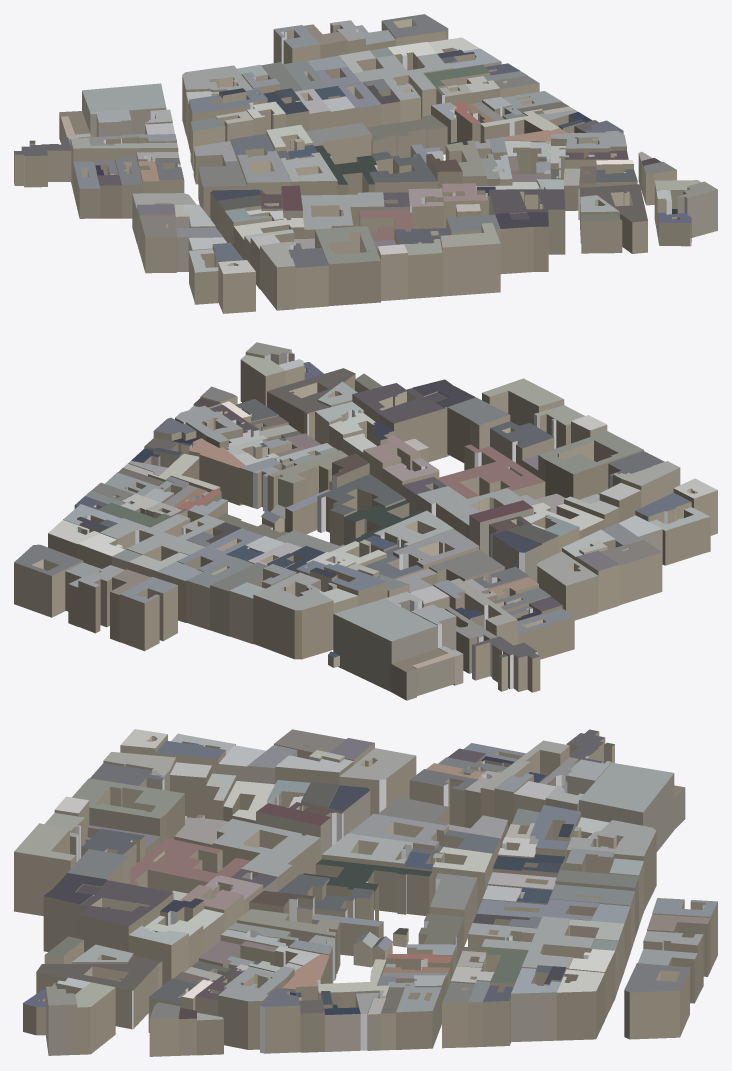
3 views of the same model, one above another, from view 1: azimuth 30°, elevation 25°; view 2: azimuth 150°, elevation 25°; view 3: azimuth 270°, elevation 25° (orthographic). The views are drawn at different scales.
Parts seen in each view (by area): view 1: tuile; view 2: tuile; view 3: tuile.
Boxes of the visible parts, x1,y1,x2,y2 form: tuile: (14,14,717,313); tuile: (14,342,717,700); tuile: (14,729,717,1056).
Size of the model in its own units: 264 by 30.29 by 273.
